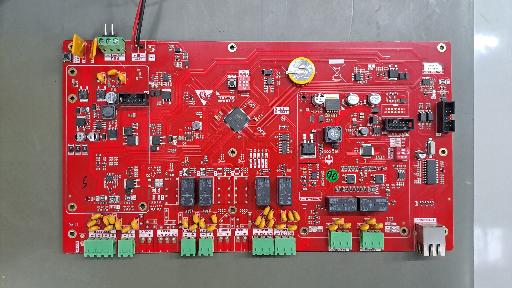var: (71, 34, 86, 59), (89, 37, 97, 59), (97, 72, 105, 83), (371, 223, 383, 230), (91, 213, 103, 220), (267, 218, 275, 228), (182, 218, 189, 229), (341, 222, 352, 229), (211, 213, 218, 224), (359, 223, 370, 230), (131, 219, 138, 230), (115, 219, 122, 230), (87, 220, 98, 227), (108, 214, 115, 225), (107, 69, 119, 75), (88, 226, 100, 232), (118, 73, 125, 83), (192, 214, 199, 224), (263, 206, 270, 216), (328, 224, 338, 231), (334, 218, 344, 225), (267, 210, 274, 220), (259, 218, 266, 228), (121, 226, 131, 233), (281, 211, 287, 222), (288, 211, 294, 222), (293, 212, 300, 221), (288, 224, 297, 231), (255, 216, 262, 225), (275, 224, 285, 230), (199, 219, 205, 229), (206, 225, 216, 231), (188, 224, 198, 230), (366, 218, 376, 224), (103, 215, 109, 225), (104, 225, 114, 231)
